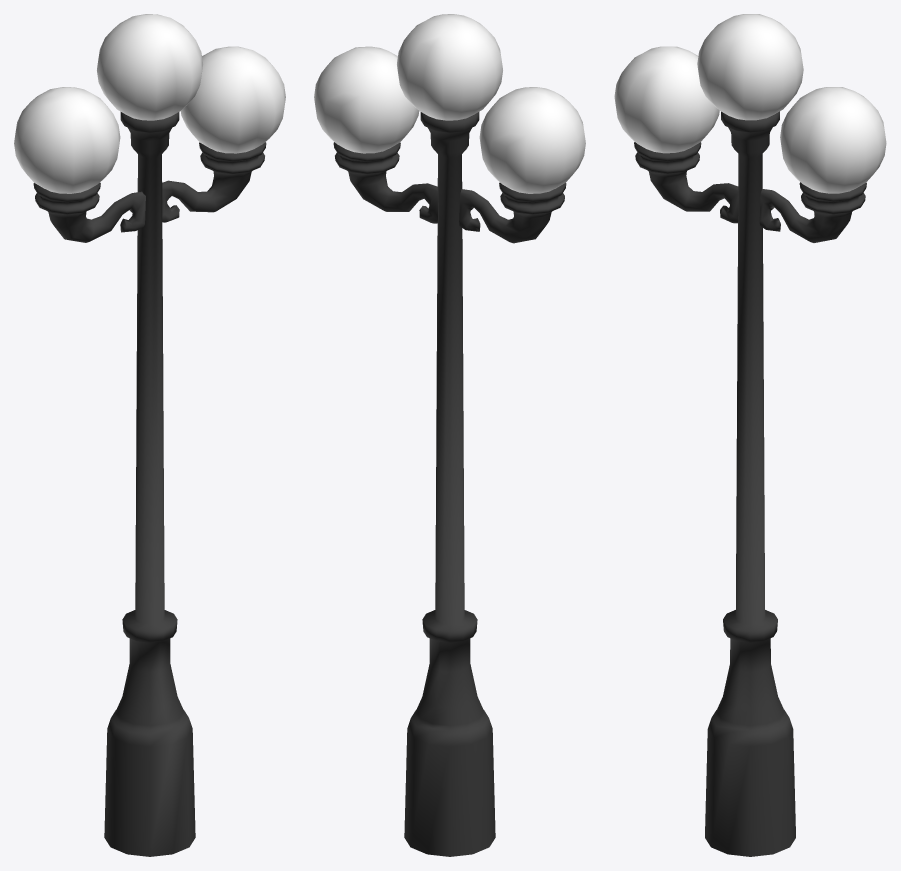
Rendered from nc_prop_lamp_globe_01.fbx.
The picture shows the model from 3 angles, left to right: view 1: azimuth 30°, elevation 25°; view 2: azimuth 150°, elevation 25°; view 3: azimuth 330°, elevation 25°; orthographic projection.
Visible parts, largest first — view 1: nc_prop_lamp_globe_01_LOD0; view 2: nc_prop_lamp_globe_01_LOD0; view 3: nc_prop_lamp_globe_01_LOD0.
Part boxes in pixels (x1,y1,x2,y2): nc_prop_lamp_globe_01_LOD0: [14, 14, 285, 856]; nc_prop_lamp_globe_01_LOD0: [314, 14, 585, 856]; nc_prop_lamp_globe_01_LOD0: [614, 14, 886, 856].
Size of what is drawn, in the model's own units: 0.625 by 1.89 by 0.2248.
Materials: 1 (1 with a texture image).
